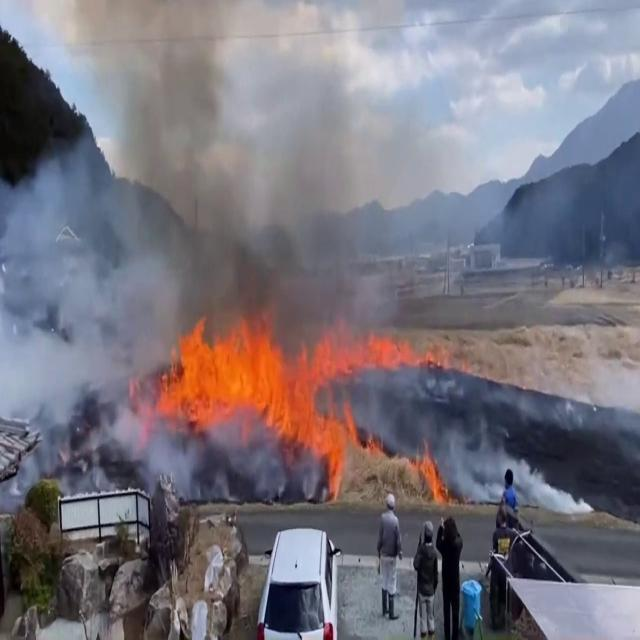Fire: (150, 304, 368, 464), (331, 422, 453, 510), (348, 316, 470, 386)
Smoke: (130, 0, 359, 352), (2, 148, 162, 476)
